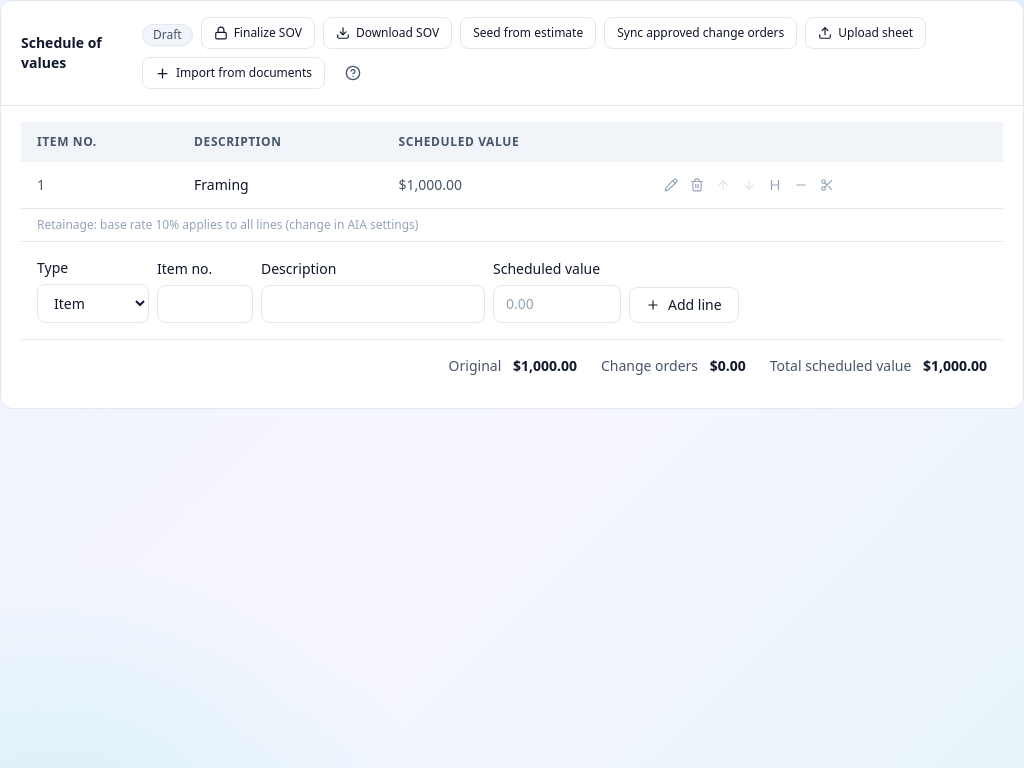
Test: AiaScheduleOfValues — lock, sections, line types, row actions › a sov_locked rejection toasts and refetches the lock state
The width and height of the screenshot is (1024, 768).
Step 1. Click the button titled "Delete" → (697, 185), box [686, 174, 708, 196]
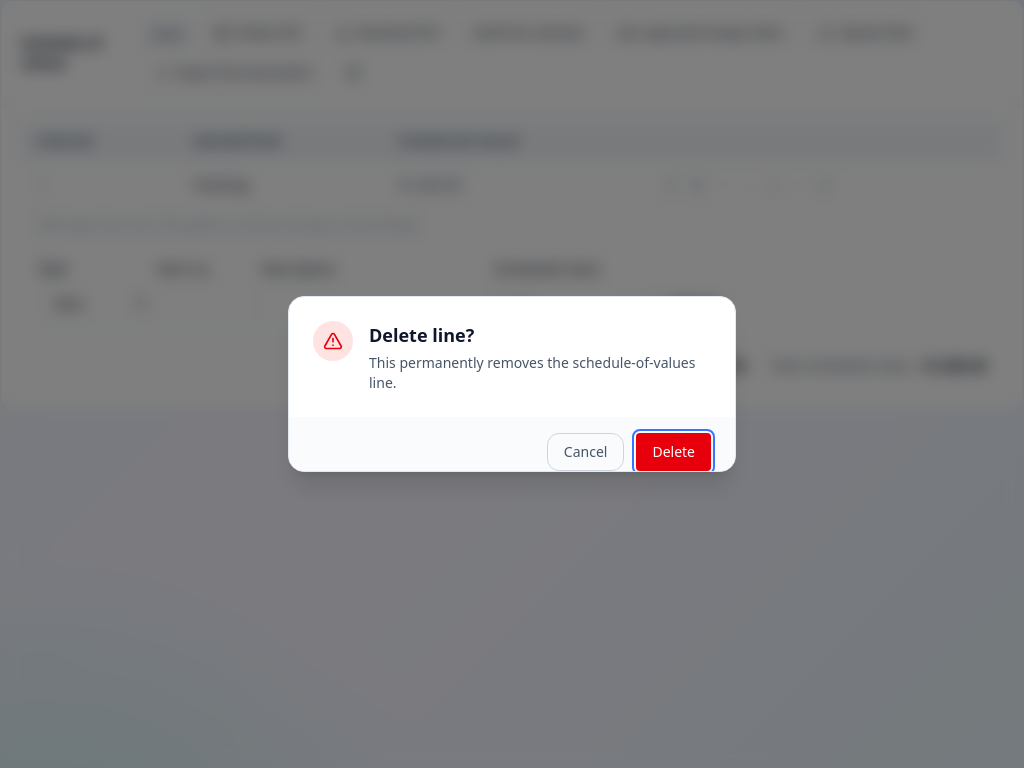
Step 2. Click the button "Delete" → (674, 452), box [636, 433, 711, 471]
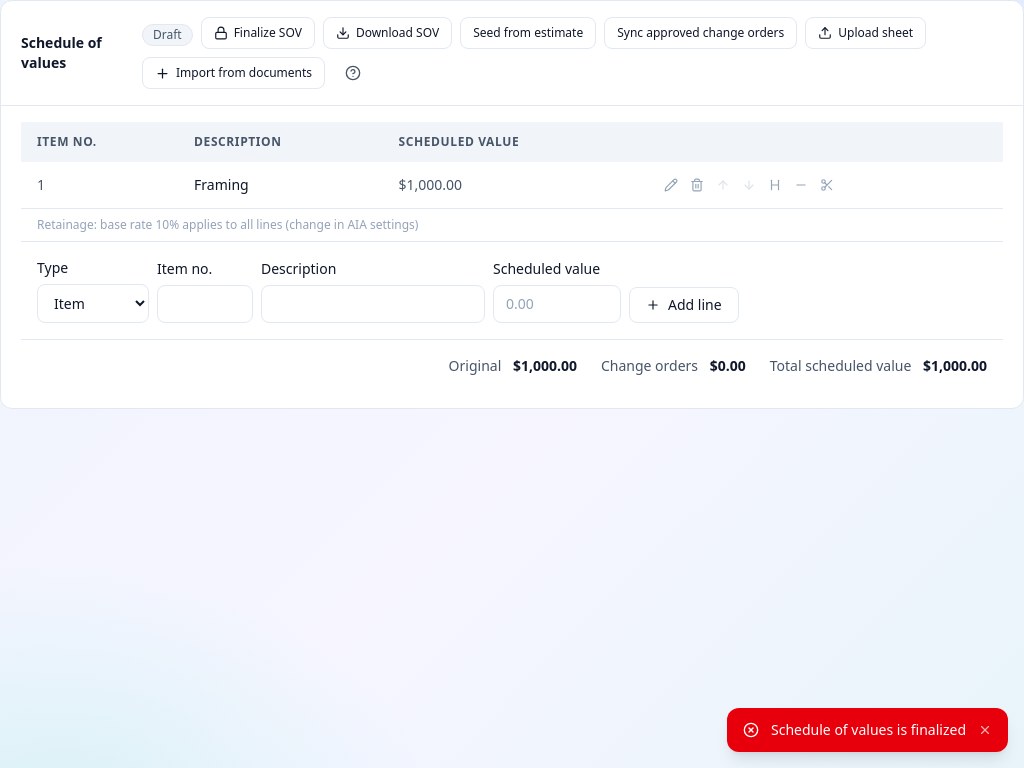
Expected: the text "Schedule of values is finalized" is shown, [771, 720, 966, 740]
